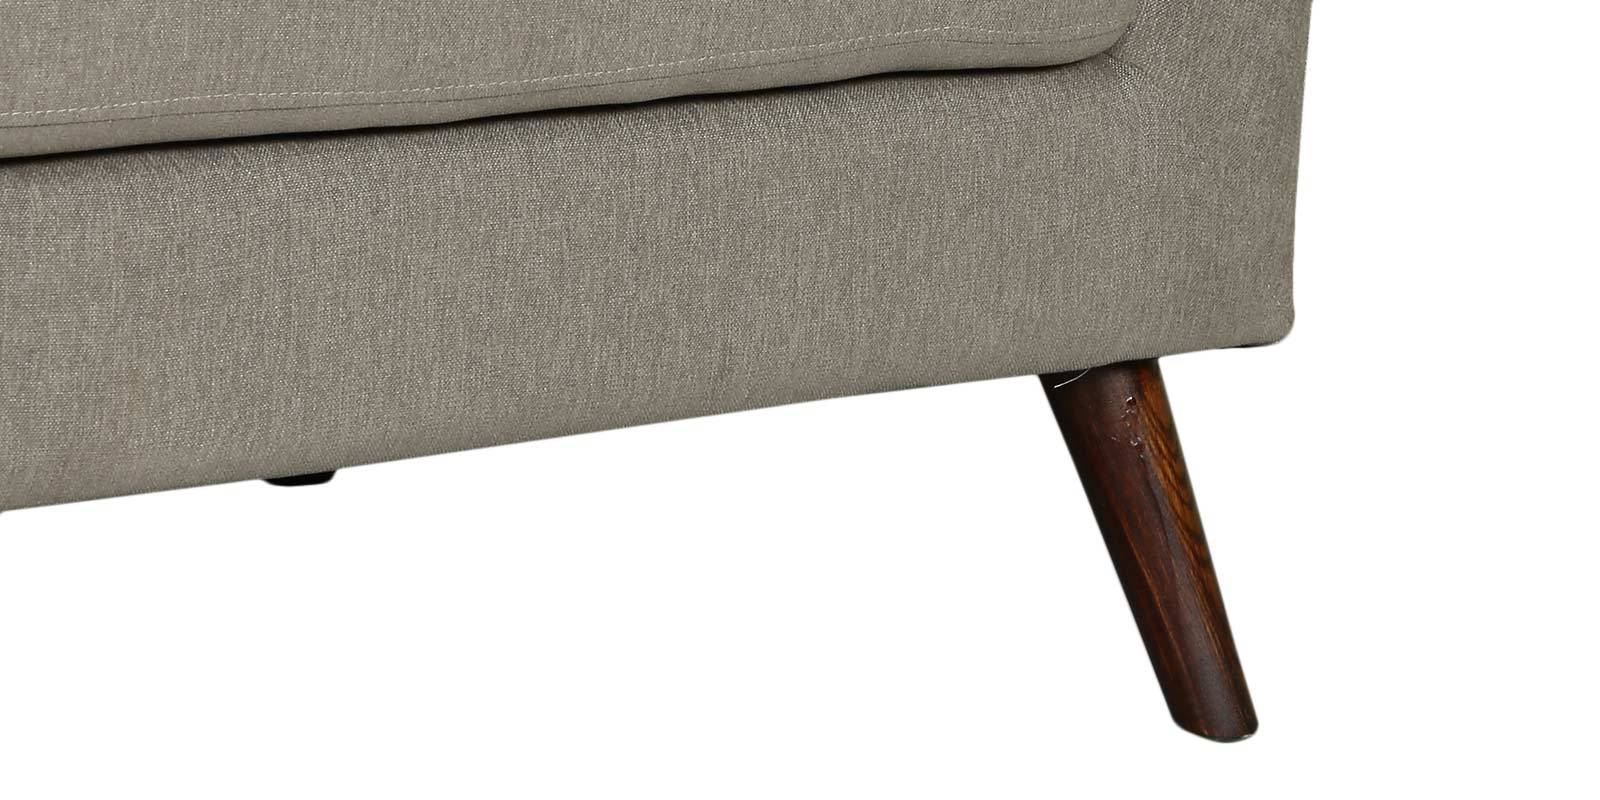Juan Three Seater Sofs in Sandy Brown Colour by CasaCraft: (1, 1, 1455, 743)
